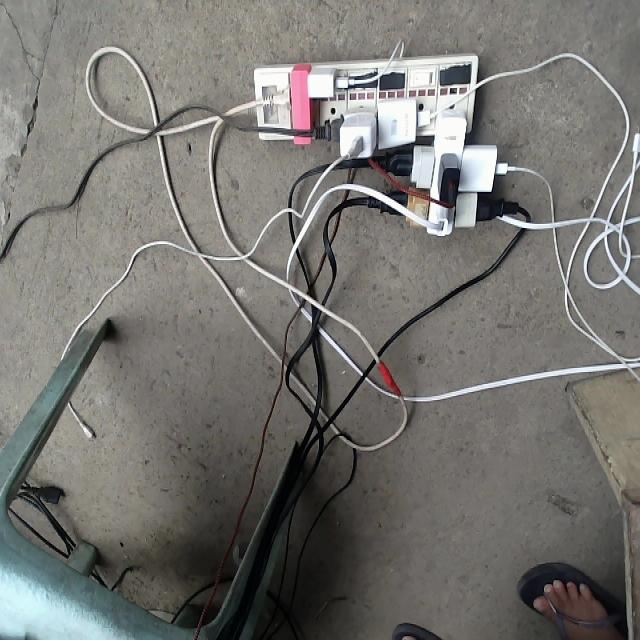-: (251, 51, 522, 234)
